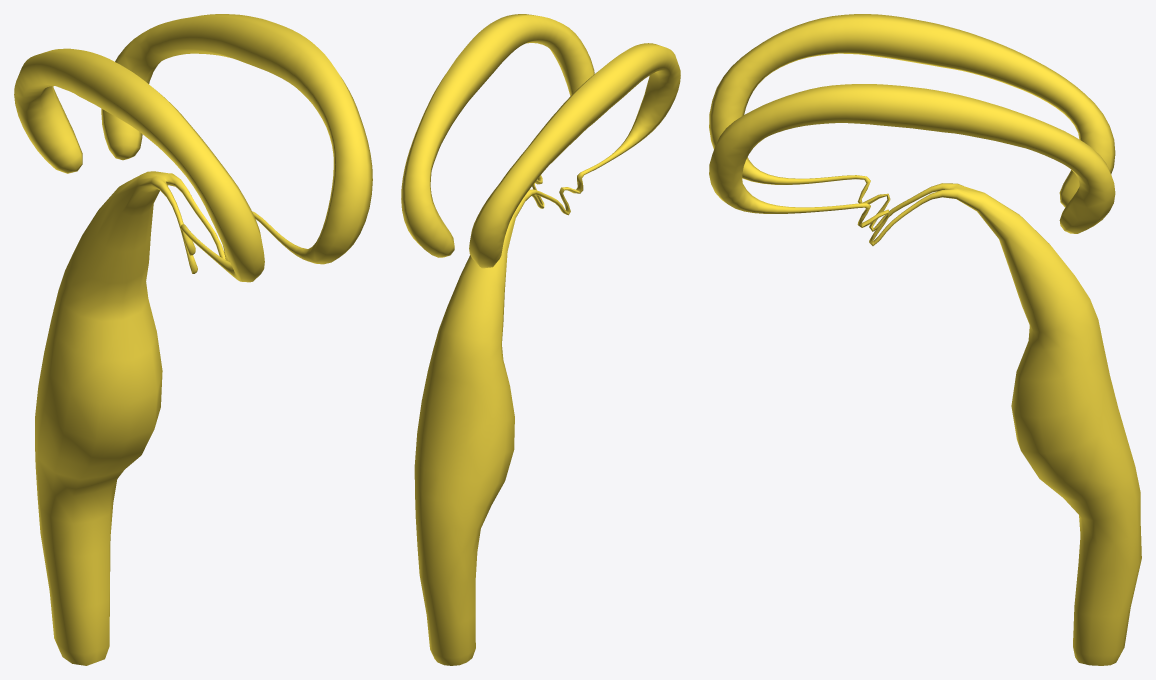
Rendered from 男性_神经系统_髓质_尾状核.fbx.
3 views of the same model, side by side, from view 1: azimuth 30°, elevation 25°; view 2: azimuth 150°, elevation 25°; view 3: azimuth 270°, elevation 25° (orthographic). The views are drawn at different scales.
Parts seen in each view (by area): view 1: 男性_神经系统_髓质_尾状核; view 2: 男性_神经系统_髓质_尾状核; view 3: 男性_神经系统_髓质_尾状核.
Part boxes in pixels (x1,y1,x2,y2): 男性_神经系统_髓质_尾状核: (14, 14, 372, 665); 男性_神经系统_髓质_尾状核: (401, 14, 680, 665); 男性_神经系统_髓质_尾状核: (709, 14, 1141, 665).
Size of the model in its own units: 4.17 by 13.55 by 8.75.
